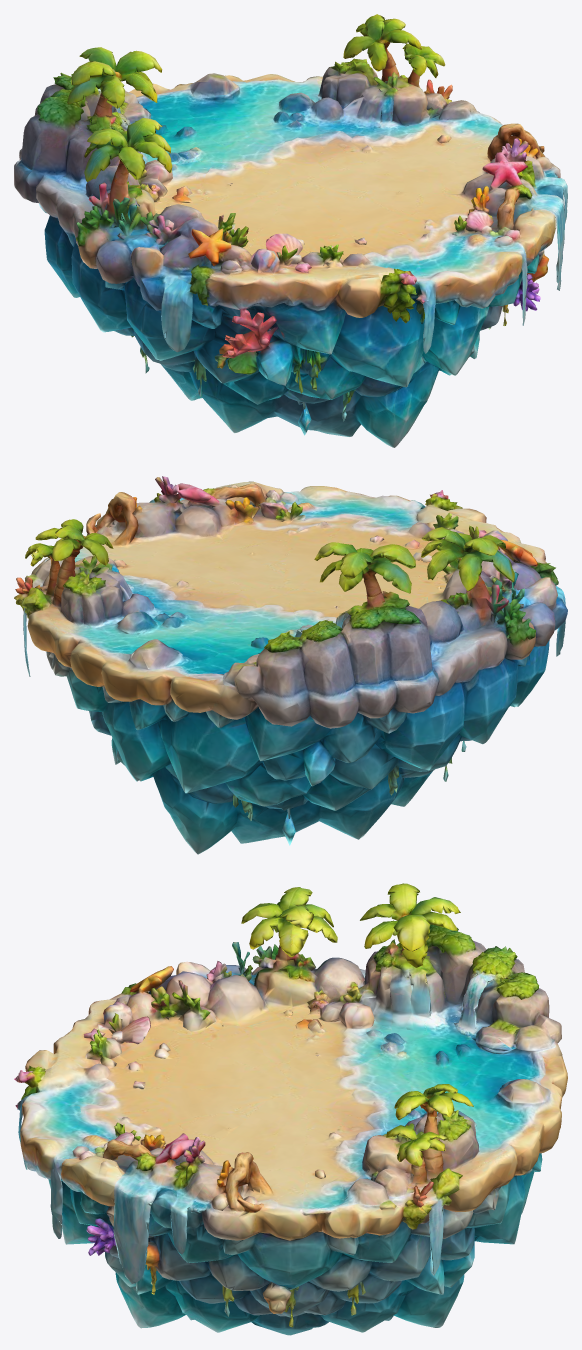
File: star_jungle.glb
3 views of the same model, one above another, from view 1: azimuth 30°, elevation 25°; view 2: azimuth 150°, elevation 25°; view 3: azimuth 270°, elevation 25° (orthographic). The views are drawn at different scales.
Bounding box in the file's own units: 0.9997 × 0.7078 × 1.
1 material, 1 textured.
